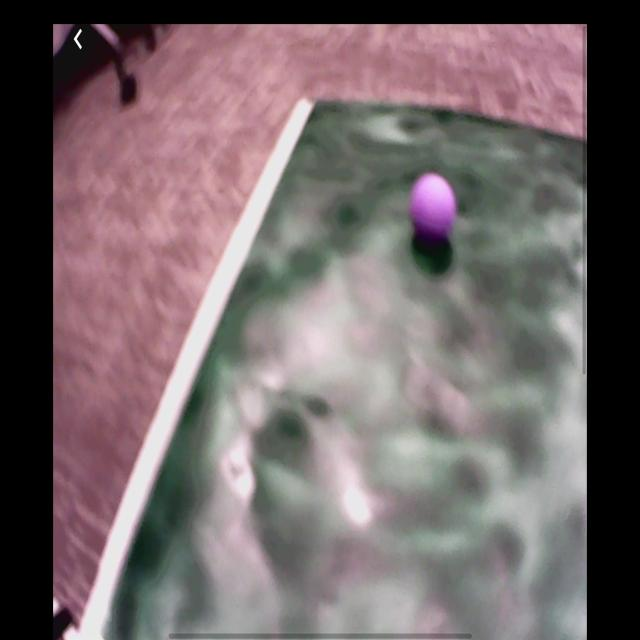ball: (412, 177, 458, 237)
